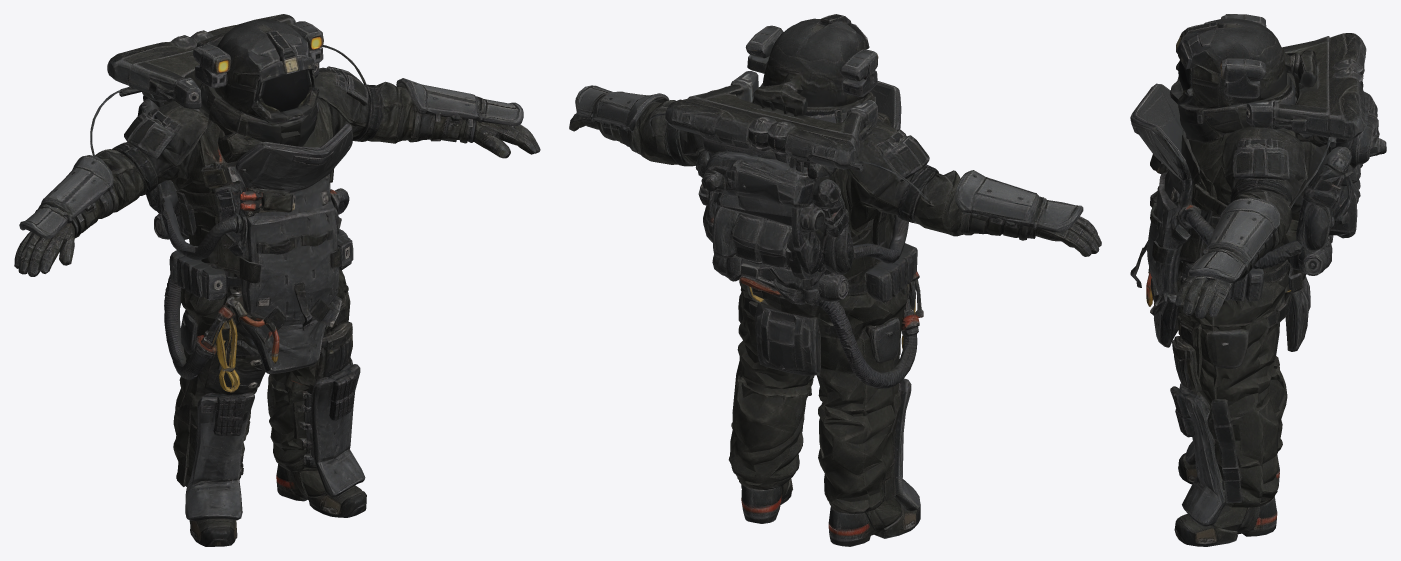
File: kessler_source.glb
3 views of the same model, side by side, from view 1: azimuth 30°, elevation 25°; view 2: azimuth 150°, elevation 25°; view 3: azimuth 270°, elevation 25° (orthographic).
Visible parts, largest first — view 1: Mesh_0; view 2: Mesh_0; view 3: Mesh_0.
Part boxes in pixels (x1=…): Mesh_0: x1=14, y1=14, x2=540, y2=546; Mesh_0: x1=569, y1=14, x2=1101, y2=546; Mesh_0: x1=1130, y1=14, x2=1386, y2=546.
Bounding box in the file's own units: 1.9 × 1.71 × 0.8186.
Materials: 1 (1 with a texture image).
